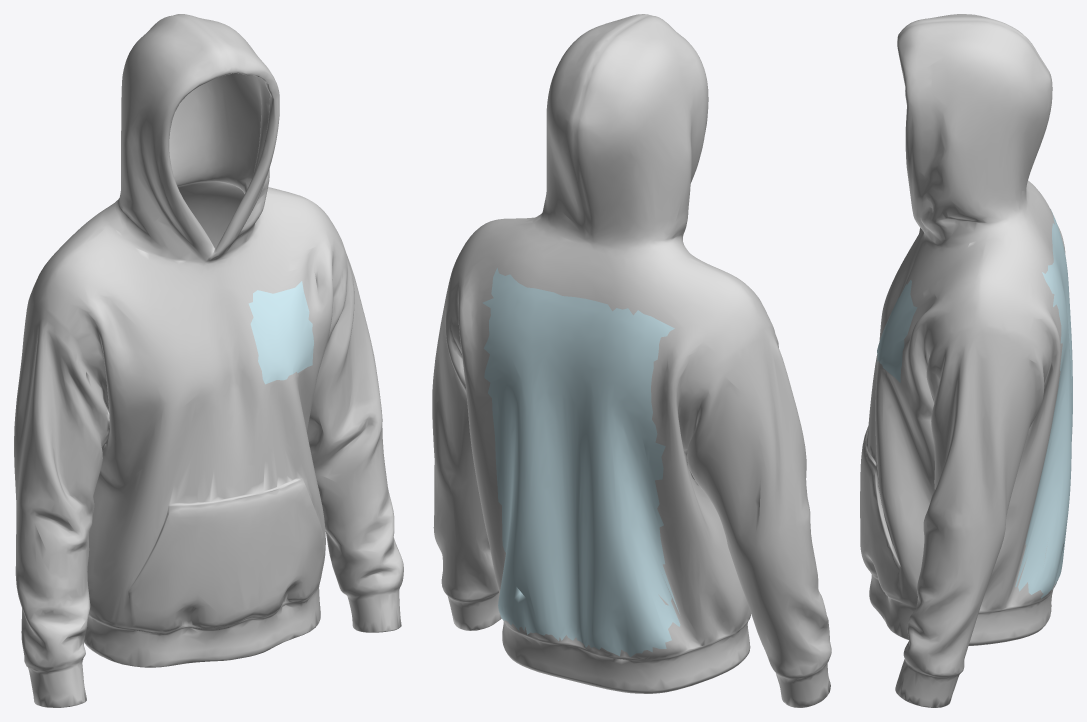
The model's file is hoodie-webshop.glb.
The picture shows the model from 3 angles, left to right: view 1: azimuth 30°, elevation 25°; view 2: azimuth 150°, elevation 25°; view 3: azimuth 270°, elevation 25°; orthographic projection. The views are drawn at different scales.
Visible parts, largest first — view 1: Hoodie_Body, Print_Area_Front; view 2: Hoodie_Body, Print_Area_Back; view 3: Hoodie_Body, Print_Area_Back, Print_Area_Front.
Boxes of the visible parts, x1,y1,x2,y2 form: Hoodie_Body: (14,14,403,707); Print_Area_Front: (248,281,313,384); Hoodie_Body: (432,14,831,707); Print_Area_Back: (482,268,680,656); Hoodie_Body: (860,14,1065,707); Print_Area_Back: (1015,209,1072,598); Print_Area_Front: (877,280,917,382).
Size of the model in its own units: 0.6399 by 1.04 by 0.3303.
